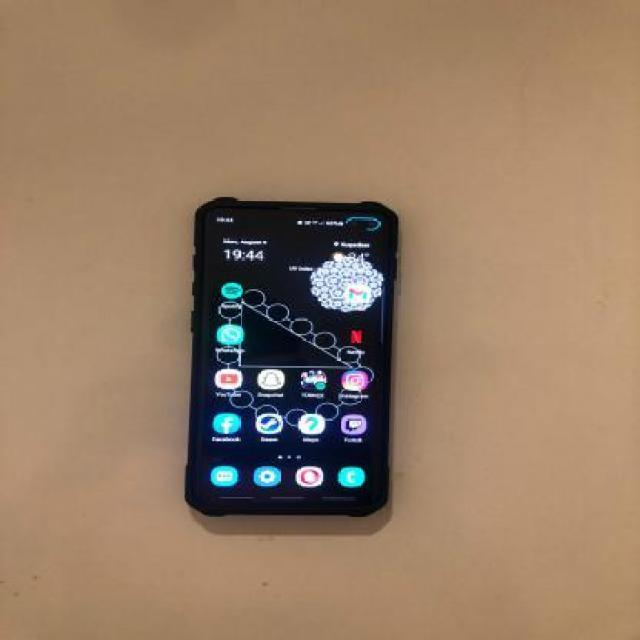phone: (188, 196, 400, 519)
